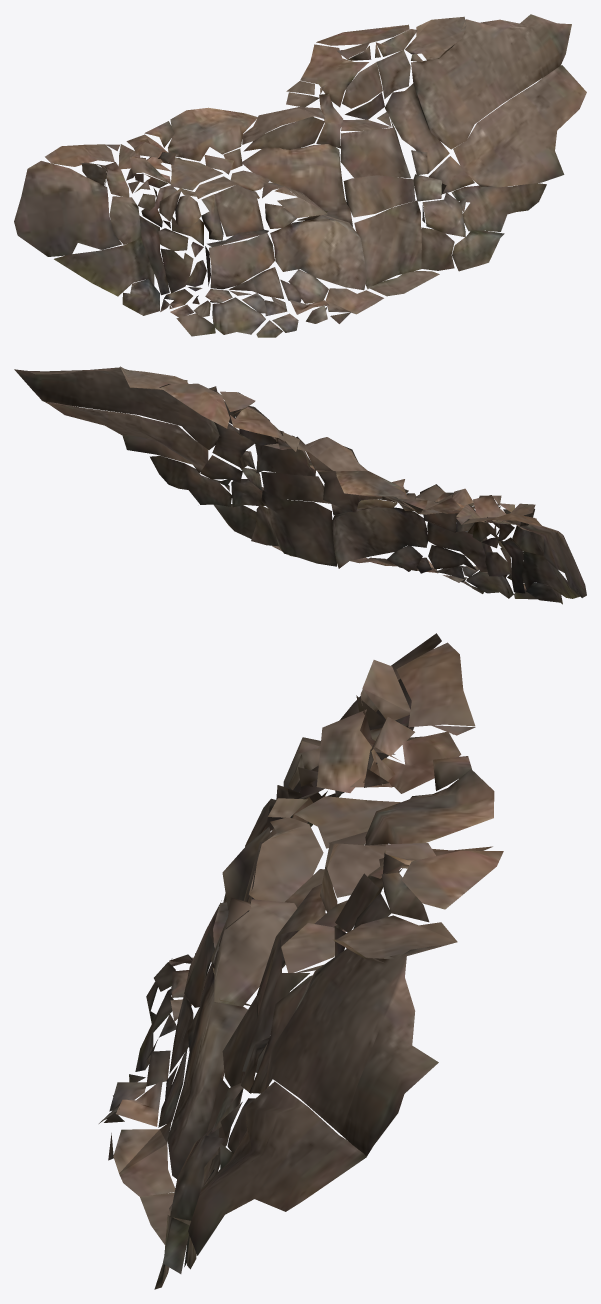
Rendered from namaqualand_cliff_02_lod2.glb.
The picture shows the model from 3 angles, top to bottom: view 1: azimuth 30°, elevation 25°; view 2: azimuth 150°, elevation 25°; view 3: azimuth 270°, elevation 25°; orthographic projection. The views are drawn at different scales.
Parts seen in each view (by area): view 1: drone_rock_02_LOD0; view 2: drone_rock_02_LOD0; view 3: drone_rock_02_LOD0.
Boxes of the visible parts, box(x1,y1,x2,y2) form: drone_rock_02_LOD0: box(14, 14, 586, 337); drone_rock_02_LOD0: box(14, 366, 586, 604); drone_rock_02_LOD0: box(99, 633, 503, 1289).
Size of the model in its own units: 20.23 by 7.12 by 6.45.
Materials: 1 (1 with a texture image).
